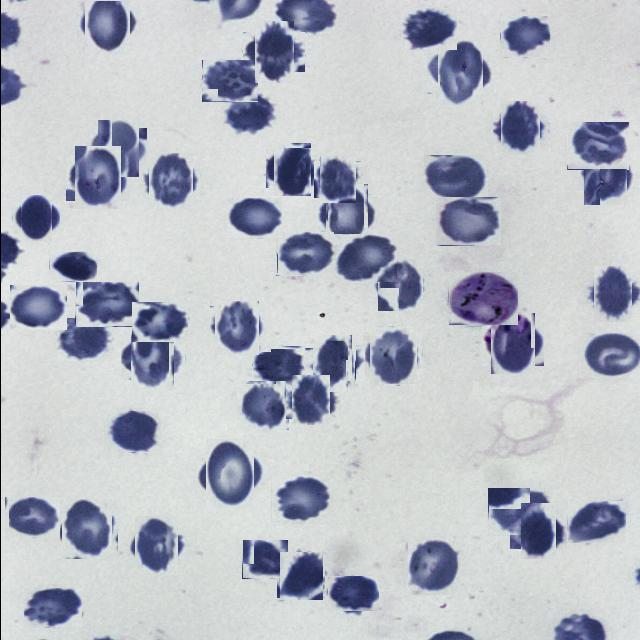red blood cell: (200, 444, 258, 504), (431, 42, 488, 100), (434, 197, 500, 246), (406, 537, 462, 593), (332, 234, 396, 283), (487, 488, 550, 536), (70, 150, 124, 206), (423, 155, 487, 202), (566, 122, 628, 170), (59, 502, 114, 556), (270, 476, 329, 526), (125, 332, 179, 386), (365, 329, 419, 383), (74, 282, 138, 327), (320, 189, 372, 241), (130, 520, 182, 572), (80, 0, 133, 51), (580, 333, 640, 378), (580, 150, 630, 202), (9, 285, 66, 330), (275, 232, 333, 276), (145, 156, 196, 206), (248, 27, 298, 78), (566, 501, 625, 544), (92, 124, 142, 174), (374, 261, 424, 309), (212, 304, 262, 352), (238, 382, 286, 432), (56, 318, 111, 361), (22, 588, 81, 628), (201, 60, 257, 102), (400, 8, 456, 50), (588, 270, 636, 318), (226, 198, 282, 239), (4, 497, 59, 538), (131, 302, 187, 342), (105, 411, 158, 453), (496, 105, 543, 152), (251, 346, 303, 388), (499, 15, 549, 58), (223, 93, 276, 133), (313, 340, 359, 386), (514, 508, 560, 554), (278, 553, 324, 599), (269, 146, 314, 192), (288, 378, 333, 422), (308, 344, 352, 388), (326, 576, 378, 612), (241, 540, 287, 579), (316, 158, 358, 200), (15, 198, 56, 238), (48, 252, 96, 282)
ring: (486, 318, 538, 370)
trophozoite: (447, 272, 517, 326)
